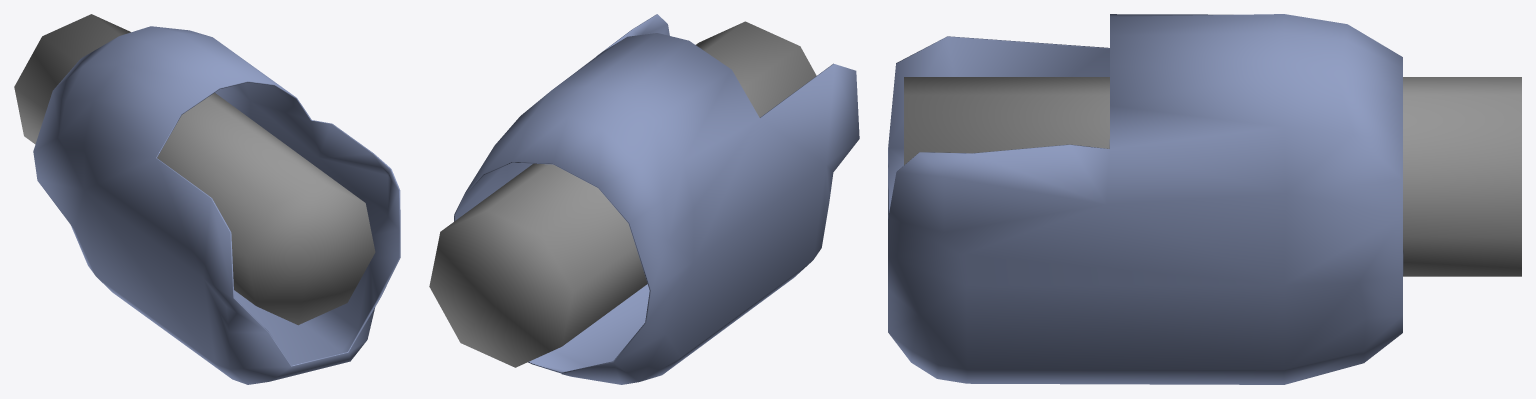
Rendered from icub_simple_l_arm.dae.
The picture shows the model from 3 angles, left to right: view 1: azimuth 30°, elevation 25°; view 2: azimuth 150°, elevation 25°; view 3: azimuth 270°, elevation 25°; orthographic projection. The views are drawn at different scales.
Visible parts, largest first — view 1: l_arm_mesh; view 2: l_arm_mesh; view 3: l_arm_mesh.
Part boxes in pixels (left/top/right/bottom): l_arm_mesh: left=14, top=14, right=400, bottom=384; l_arm_mesh: left=429, top=14, right=859, bottom=384; l_arm_mesh: left=888, top=14, right=1521, bottom=384.
Bounding box in the file's own units: 0.0712 × 0.0911 × 0.16.
